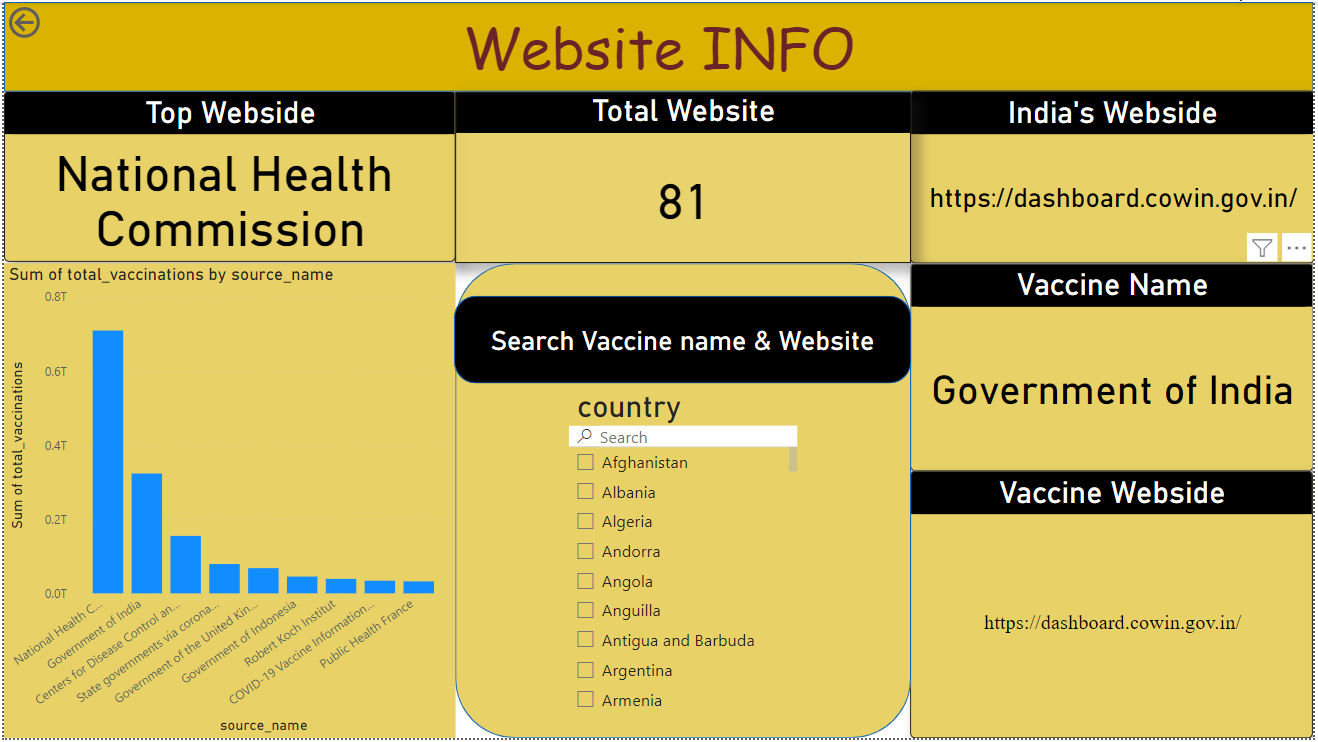

The dashboard page shown, as its layout file describes it:
{"tool":"powerbi","page":{"name":"Website","canvas":[1280,720],"ordinal":3},"visuals":[{"type":"card","title":"Top Webside","fields":{"Values":["country_vaccinations.top_website"]},"box":[0,87.1,441.4,167.1],"z":0},{"type":"shape","box":[0,0,1280.6,87.7],"z":1000},{"type":"card","title":"India''s Webside","fields":{"Values":["country_vaccinations.Indian's website"]},"box":[886.2,86.8,394.8,168.7],"z":2000},{"type":"actionButton","box":[0,0,100,40],"z":3000},{"type":"card","title":"Total Website","fields":{"Values":["Count(country_vaccinations.source_name)"]},"box":[441.5,88.1,445.3,167.3],"z":4000},{"type":"columnChart","fields":{"Y":["Sum(country_vaccinations.total_vaccinations)"],"Category":["country_vaccinations.source_name"]},"box":[0,255,441.5,464.8],"z":5000},{"type":"card","title":"Vaccine Name","fields":{"Values":["Min(country_vaccinations.source_name)"]},"box":[885.7,255.7,394.3,202.9],"z":6000},{"type":"card","title":"Vaccine Webside","fields":{"Values":["Min(country_vaccinations.source_website)"]},"box":[886.2,458.4,393.6,261.6],"z":7000},{"type":"shape","box":[441.4,255.7,445.7,464.3],"z":8000},{"type":"slicer","fields":{"Values":["country_vaccinations.country"]},"box":[547.1,372.9,232.9,332.9],"z":9000},{"type":"shape","box":[440,287.1,447.1,85.7],"z":10000}]}

Visuals, with their boxes in screenshot pixels (x1, y1, x2, y2), scaled from the page's 1280x720 canvas onto the 1318x742 screenshot:
"Top Webside" card: <box>0,90,455,262</box>
shape: <box>0,0,1317,90</box>
"India''s Webside" card: <box>913,89,1317,263</box>
actionButton: <box>0,0,103,41</box>
"Total Website" card: <box>455,91,913,263</box>
columnChart - Sum(country_vaccinations.total_vaccinations) x country_vaccinations.source_name: <box>0,263,455,741</box>
"Vaccine Name" card: <box>912,264,1317,473</box>
"Vaccine Webside" card: <box>913,472,1317,741</box>
shape: <box>455,264,913,741</box>
slicer - country_vaccinations.country: <box>563,384,803,727</box>
shape: <box>453,296,913,384</box>
